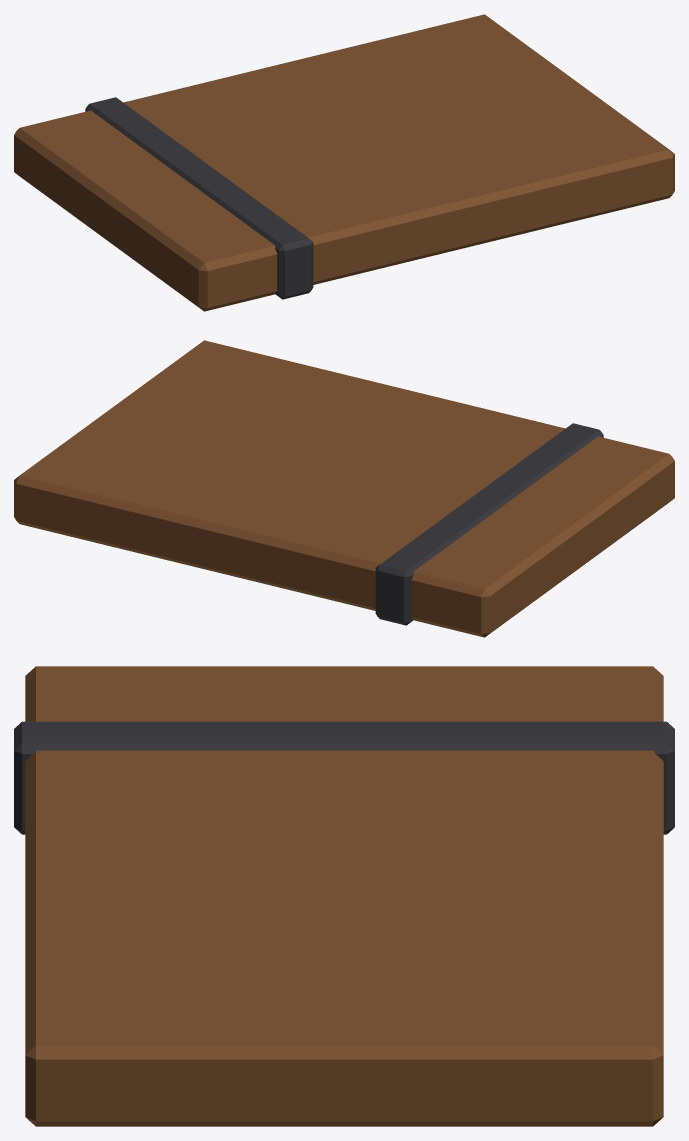
Rendered from Prop_Ash_SeedCache_Lid_LOD1.glb.
3 renders of one model, top to bottom at view 1: azimuth 30°, elevation 25°; view 2: azimuth 150°, elevation 25°; view 3: azimuth 270°, elevation 25°, orthographic. The views are drawn at different scales.
Parts seen in each view (by area): view 1: Prop_Ash_SeedCache_Lid; view 2: Prop_Ash_SeedCache_Lid; view 3: Prop_Ash_SeedCache_Lid.
Boxes of the visible parts, left/top/right/bottom form: Prop_Ash_SeedCache_Lid: left=14, top=14, right=674, bottom=311; Prop_Ash_SeedCache_Lid: left=14, top=340, right=674, bottom=637; Prop_Ash_SeedCache_Lid: left=14, top=666, right=674, bottom=1126.
Size of the model in its own units: 0.82 by 0.09 by 0.59.
